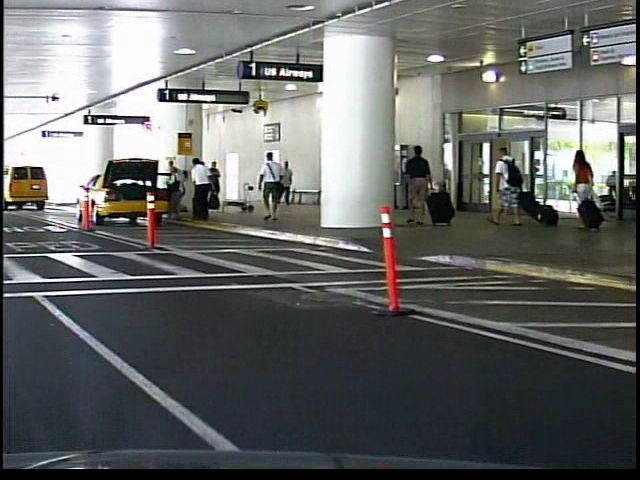person: (489, 141, 526, 226), (563, 144, 598, 230), (398, 142, 430, 228), (252, 149, 283, 222), (271, 161, 290, 208)
